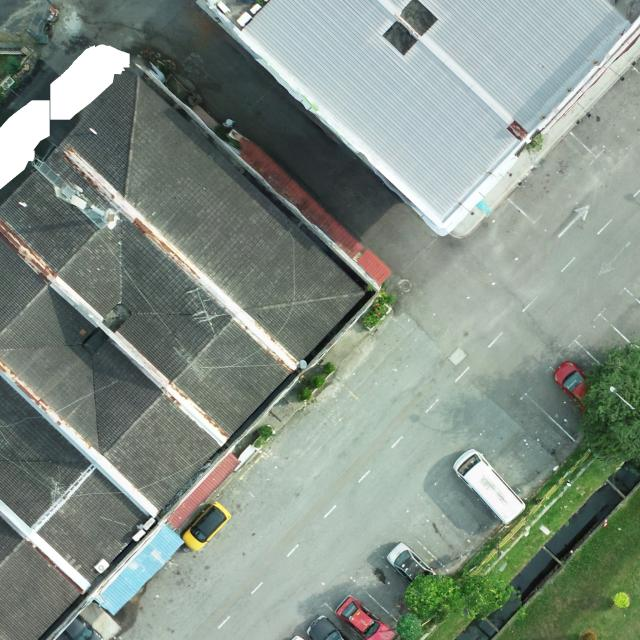tree: (578, 338, 640, 468), (404, 572, 512, 625), (396, 611, 423, 640), (612, 591, 630, 608)
